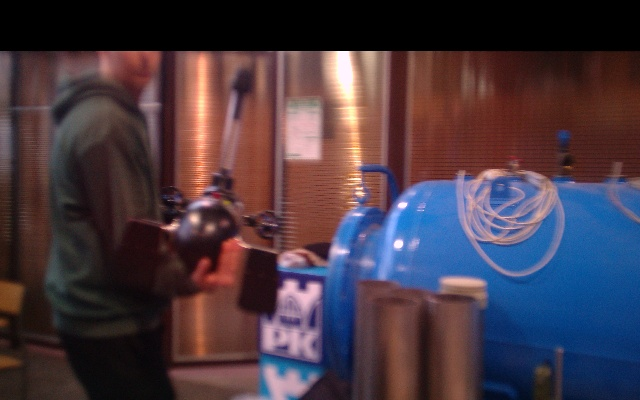black: (218, 114, 244, 173)
